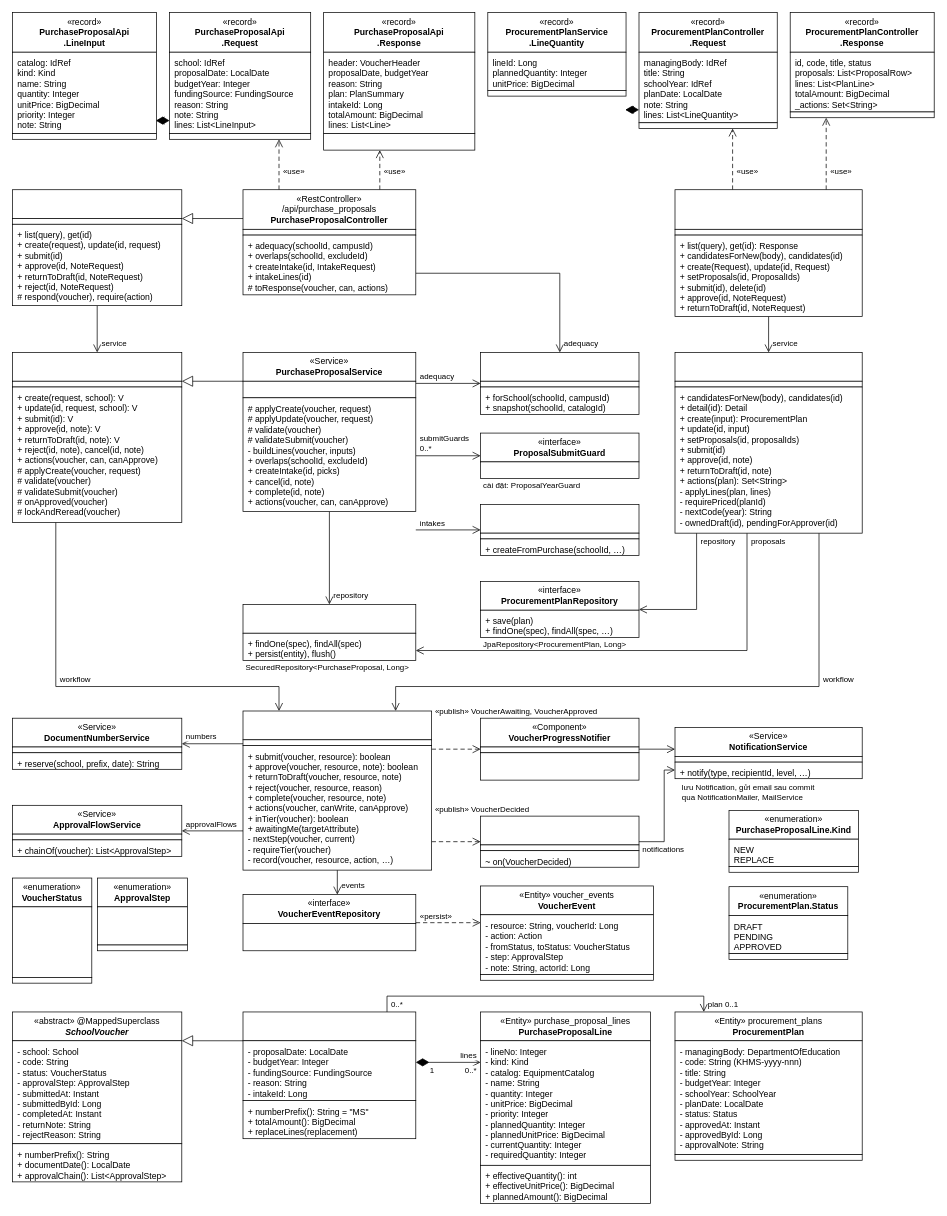
Some shapes in this 947 by 1216 pixel diagram are drawn without their labels. Here are the shapes that lost their labels. From the top down, the centre of each, then its label:
(x=399, y=141): + from(p, can, actions): Response
(x=97, y=204): «abstract» VoucherController<V, C, P>
(x=768, y=209): «RestController» /api/procurement_plans ProcurementPlanController
(x=97, y=366): «abstract» VoucherService<V, C, P>
(x=559, y=366): «Service» AdequacyService
(x=768, y=366): «Service» @Transactional ProcurementPlanService
(x=329, y=389): + RESOURCE = "purchase_proposals"
(x=559, y=469): + beforeSubmit(proposalId, schoolId)
(x=559, y=518): «Service» (NC-07) EquipmentIntakeService
(x=329, y=618): «interface» PurchaseProposalRepository
(x=337, y=725): «Component» VoucherWorkflow
(x=559, y=766): ~ on(VoucherAwaiting) ~ on(VoucherApproved)
(x=559, y=830): «Component» VoucherDecisionNotifier
(x=52, y=941): DRAFT PENDING APPROVED COMPLETED REJECTED CANCELLED
(x=142, y=925): SCHOOL MANAGING_BODY RECEIVING_BODY
(x=329, y=937): + save(event) + existsByResourceAndVoucherId(…)
(x=329, y=1026): «Entity» purchase_proposals PurchaseProposal
